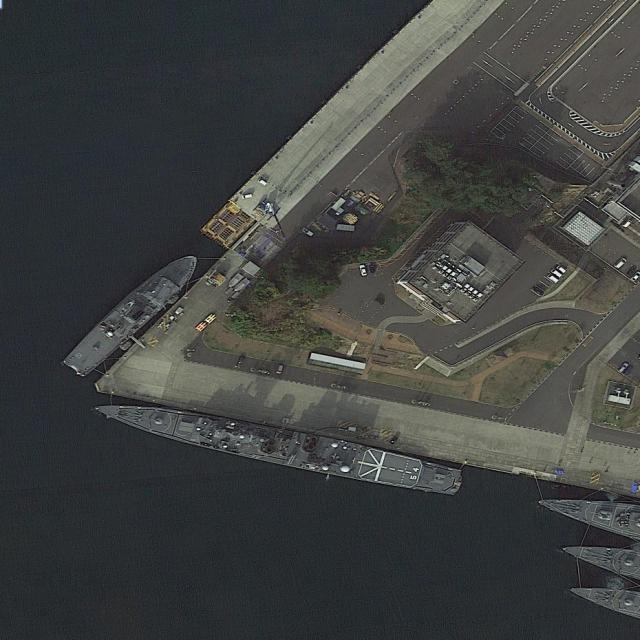Destroyer: (92, 394, 465, 499)
Other Warship: (59, 242, 206, 385)
